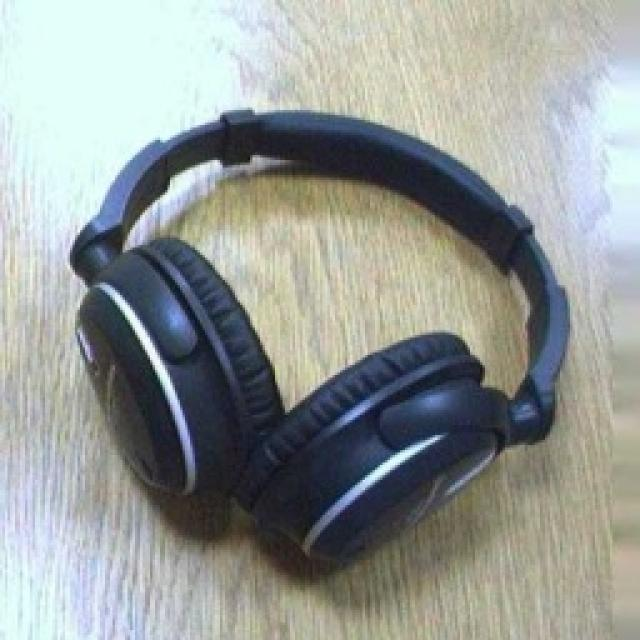headphones: (65, 105, 570, 565)
